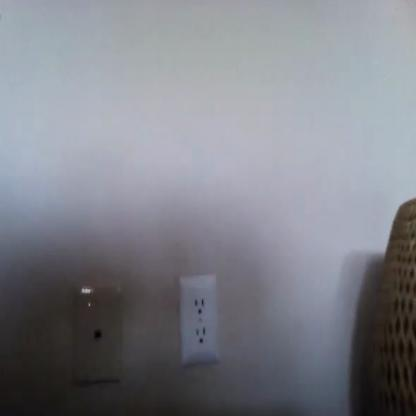OUTLET: (180, 276, 218, 362)
